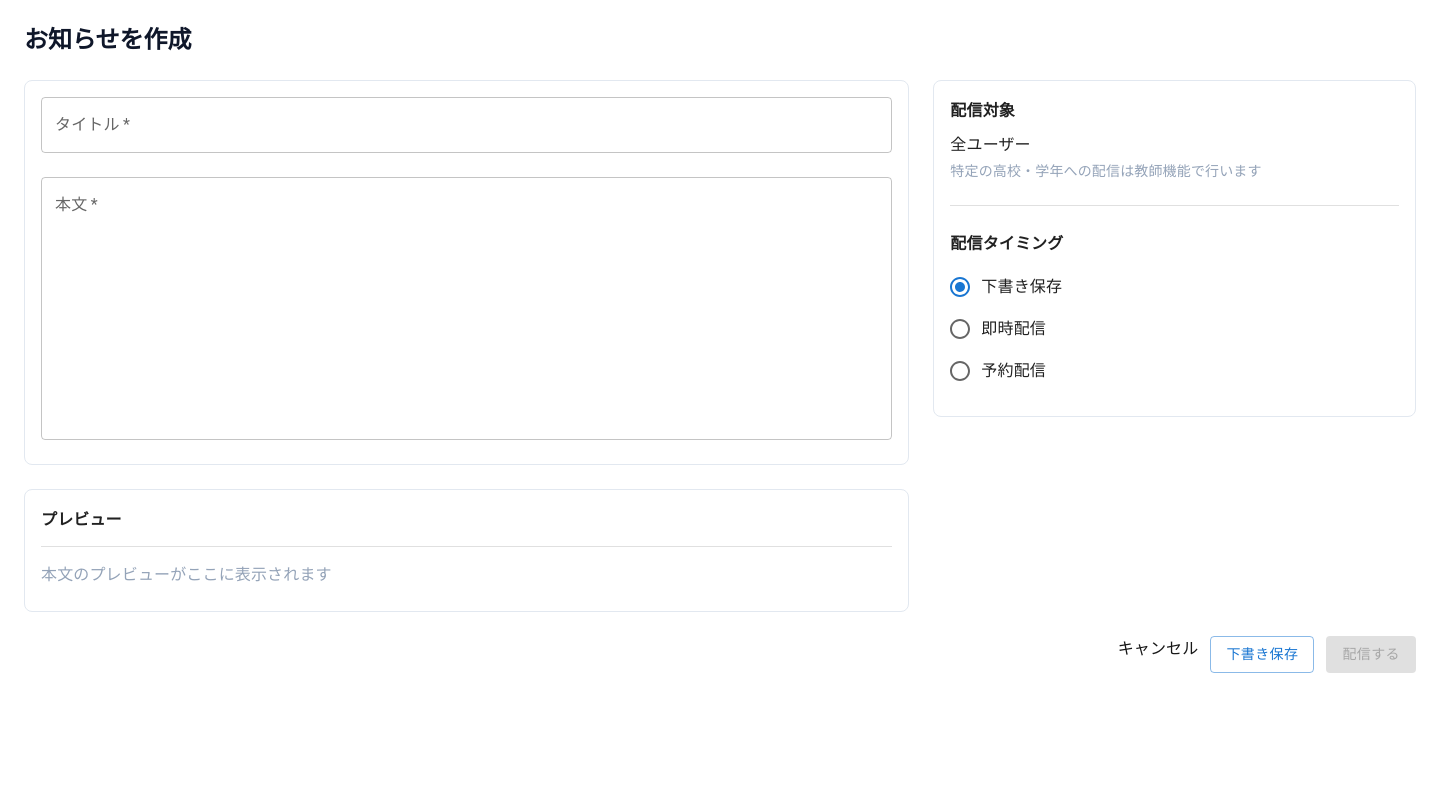
NoticeEditorPresenter › 予約配信で日時未指定のまま配信するとエラーが表示されonDeliverは呼ばれない
Type "予約配信のお知らせ" into the field labelled "タイトル".
click(467, 125); type("予約配信のお知らせ")  # box [41,97,892,153]
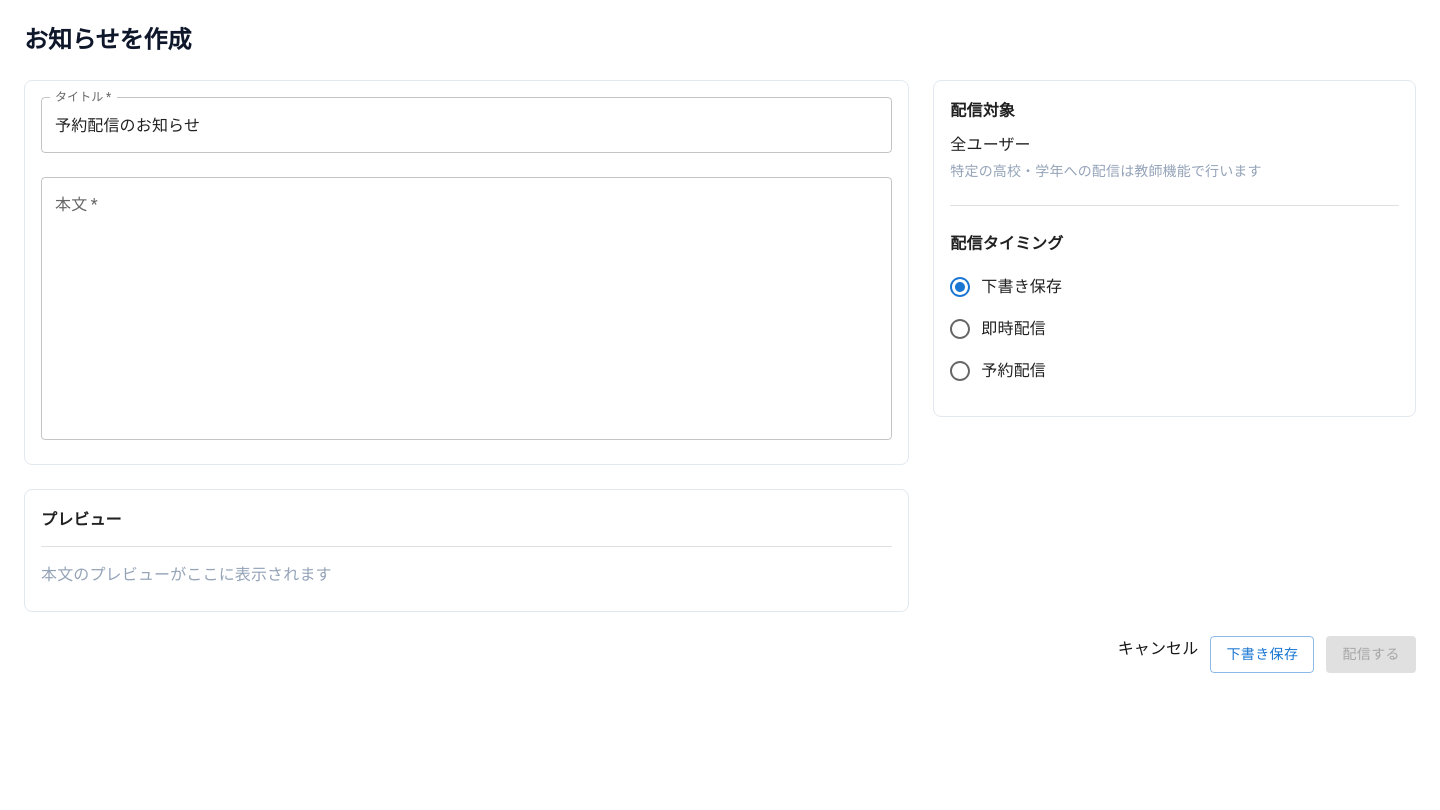
Type "本文です" into the text box labelled "本文".
click(467, 308); type("本文です")  # box [55,194,878,424]
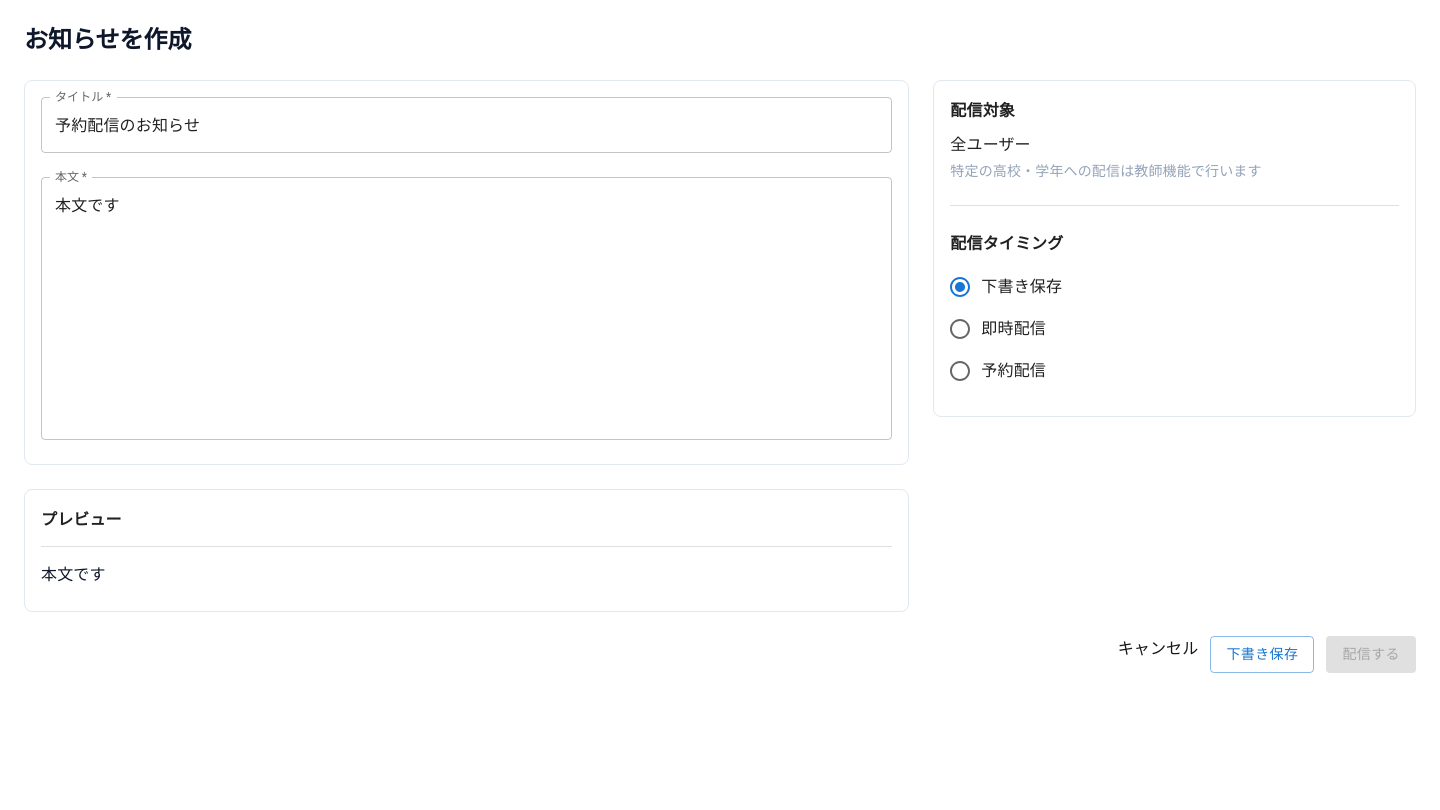
Click the radio button labelled "予約配信".
click(997, 371)  # box [948,359,1046,383]
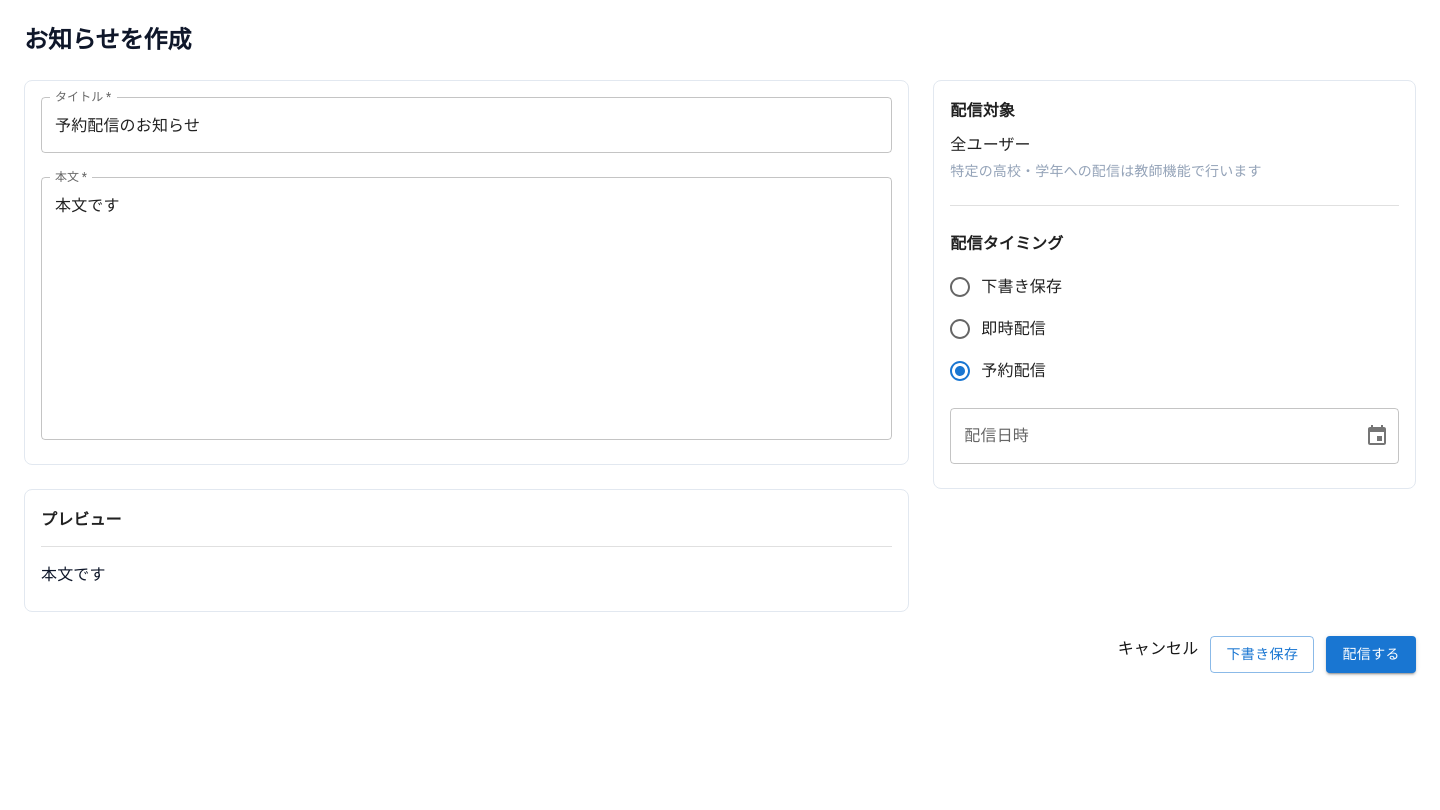
Click the button "配信する".
click(1371, 654)  # box [1326,636,1416,672]
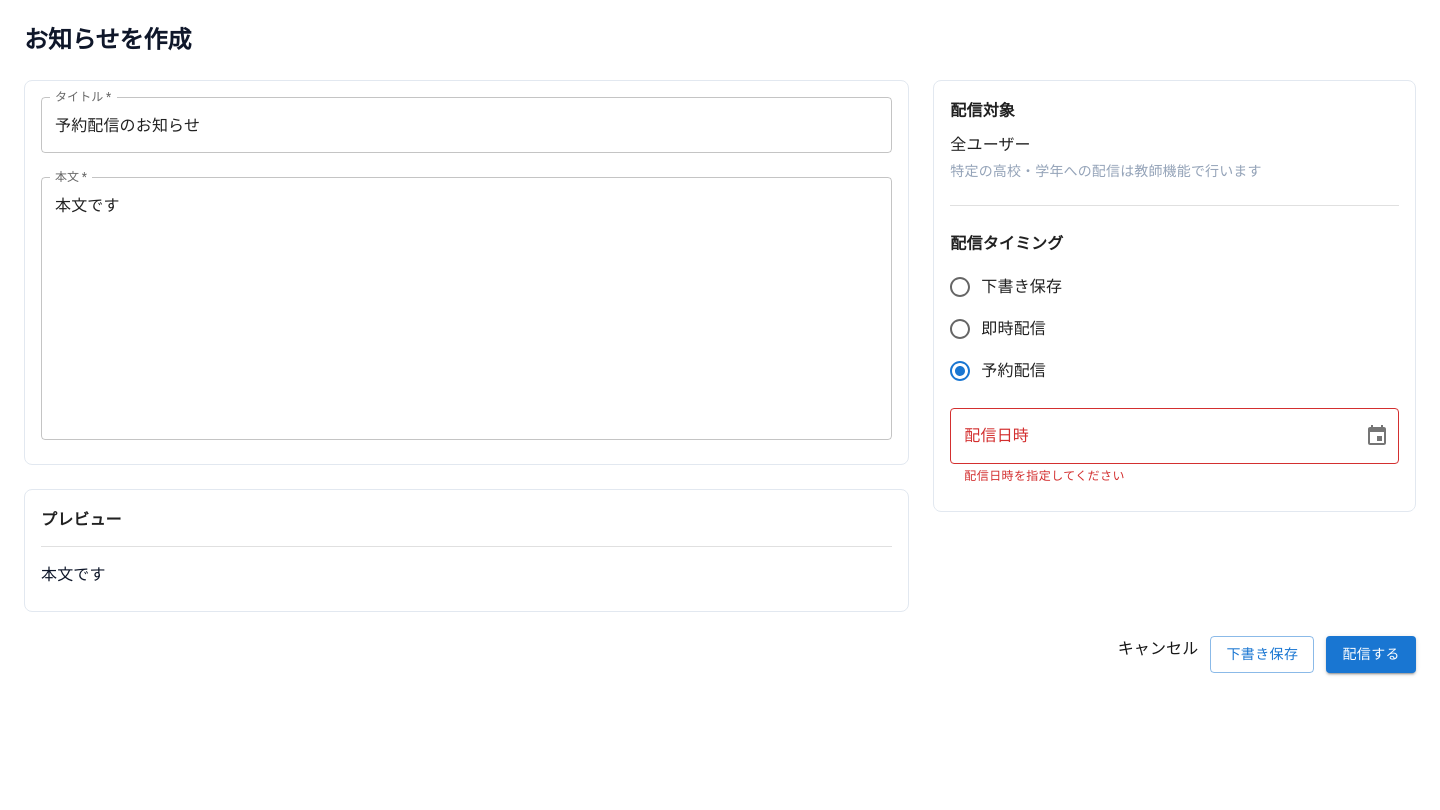
Check: the text "配信日時を指定してください" is shown, box [964,469,1125,483]
